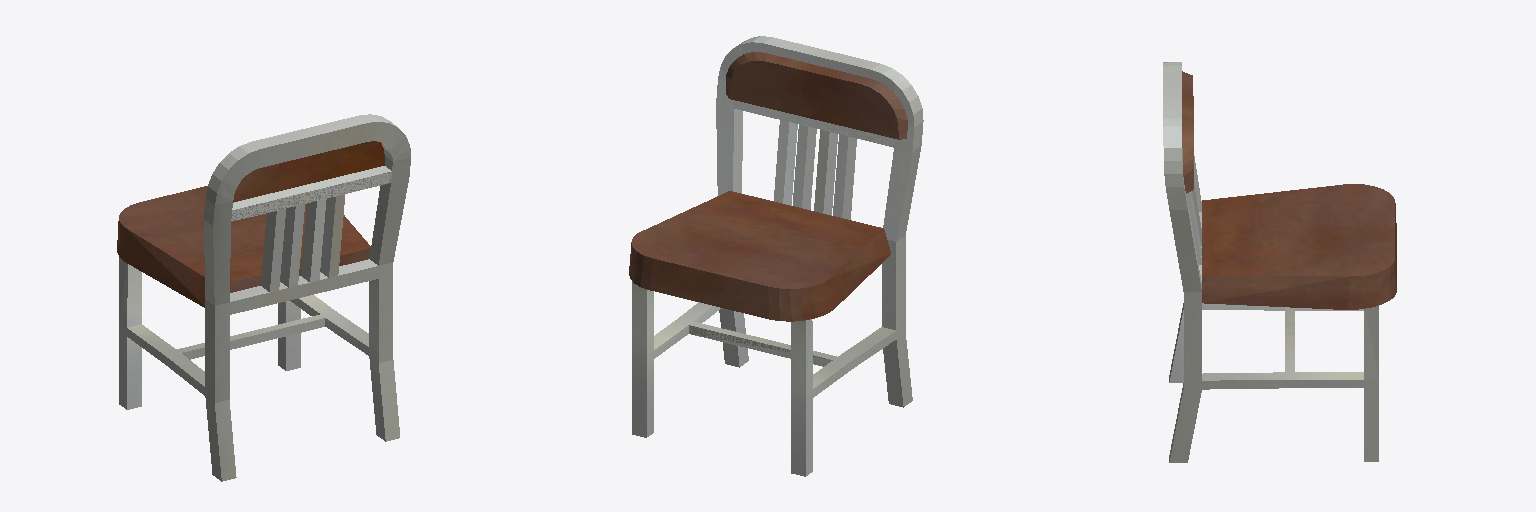
3 renders of one model, left to right at view 1: azimuth 30°, elevation 25°; view 2: azimuth 150°, elevation 25°; view 3: azimuth 270°, elevation 25°, orthographic.
Visible parts, largest first — view 1: flatback_chair.obj; view 2: flatback_chair.obj; view 3: flatback_chair.obj.
Boxes of the visible parts, x1=… form: flatback_chair.obj: x1=117, y1=114, x2=410, y2=481; flatback_chair.obj: x1=629, y1=36, x2=923, y2=476; flatback_chair.obj: x1=1163, y1=62, x2=1396, y2=462.
Bounding box in the file's own units: 10.42 × 16.53 × 10.72.
1 materials, 1 textured.